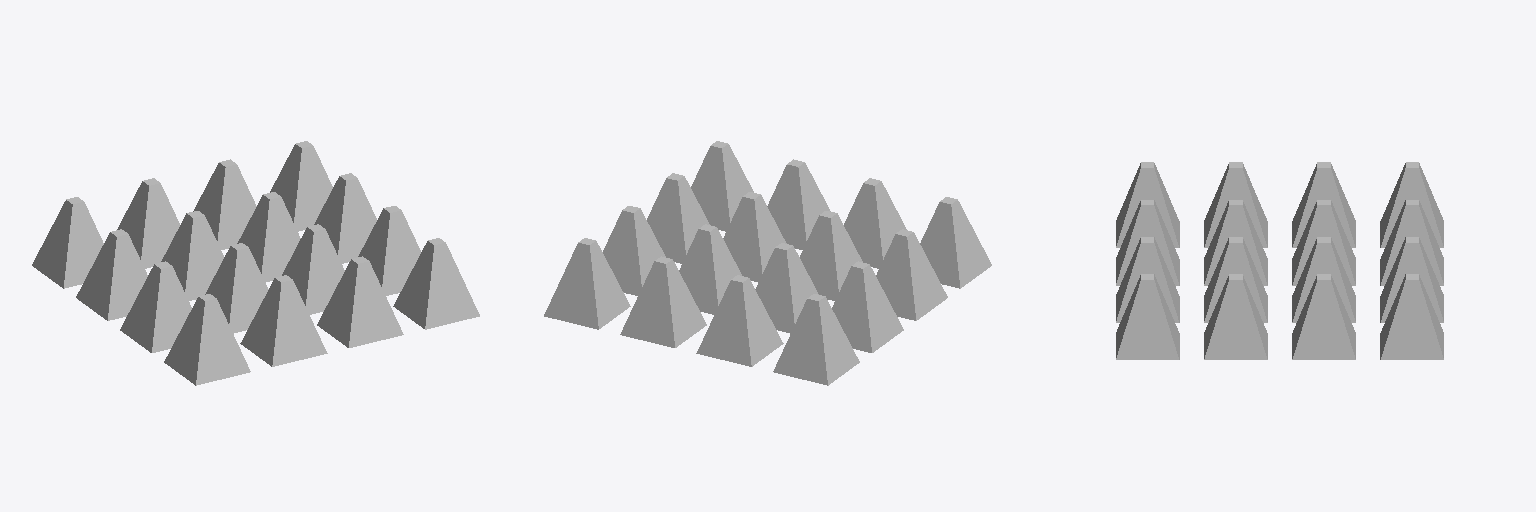
Rendered from SPIKE OUTLINE.obj.
3 views of the same model, side by side, from view 1: azimuth 30°, elevation 25°; view 2: azimuth 150°, elevation 25°; view 3: azimuth 270°, elevation 25° (orthographic).
Visible parts, largest first — view 1: OUTLINESPIKE; view 2: OUTLINESPIKE; view 3: OUTLINESPIKE.
Boxes of the visible parts, <box> form: OUTLINESPIKE: <box>32,141,479,385</box>; OUTLINESPIKE: <box>544,141,991,385</box>; OUTLINESPIKE: <box>1116,162,1443,359</box>.
Bounding box in the file's own units: 1.86 × 0.4368 × 1.86.